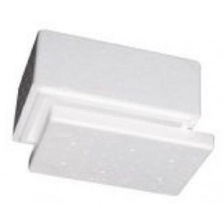foam_box: (7, 25, 218, 201)
